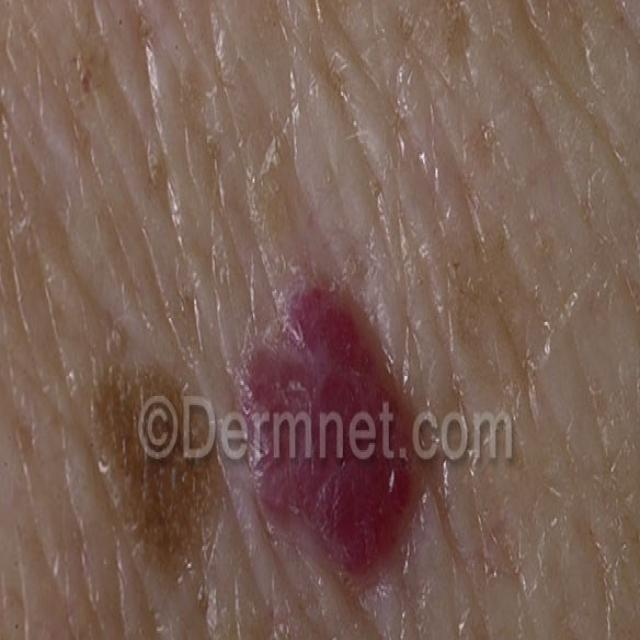Vascular Tumors: (240, 233, 481, 627), (63, 299, 225, 609)
